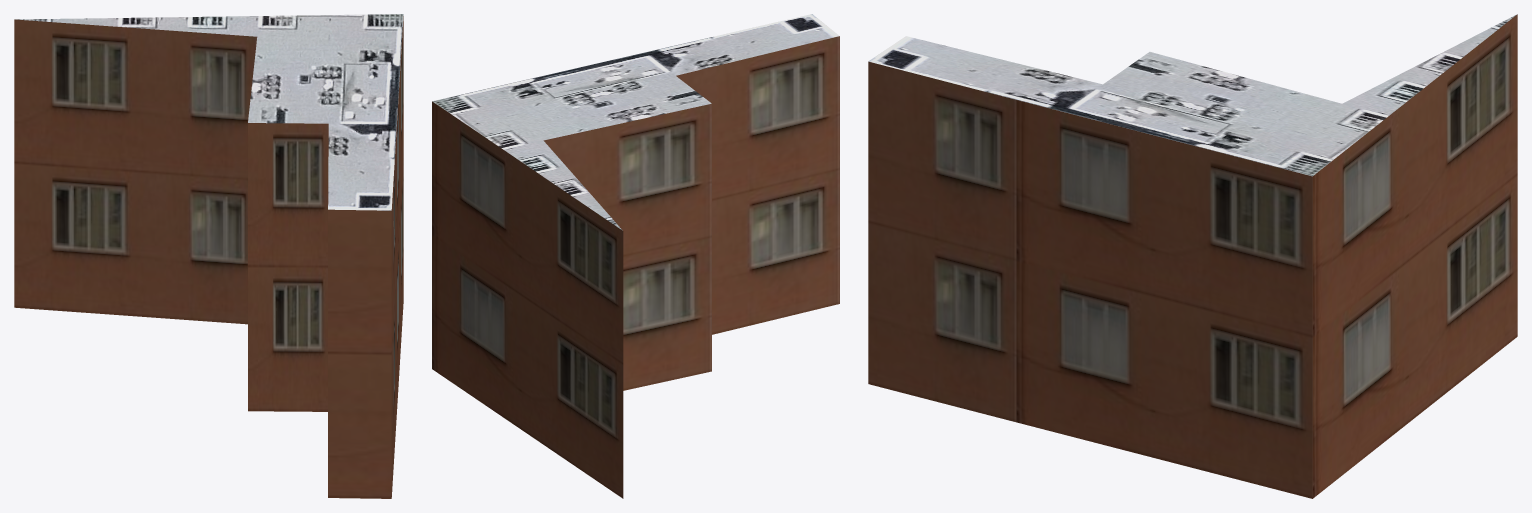
The model's file is ResTex__4489.fbx.
The picture shows the model from 3 angles, left to right: view 1: azimuth 30°, elevation 25°; view 2: azimuth 150°, elevation 25°; view 3: azimuth 270°, elevation 25°; orthographic projection. The views are drawn at different scales.
Parts seen in each view (by area): view 1: CityEngineMaterial_20_m, CityEngineMaterial_8_m; view 2: CityEngineMaterial_20_m, CityEngineMaterial_8_m; view 3: CityEngineMaterial_20_m, CityEngineMaterial_8_m.
Part boxes in pixels (bbox=[...]): CityEngineMaterial_20_m: bbox=[14, 16, 403, 498]; CityEngineMaterial_8_m: bbox=[15, 14, 403, 210]; CityEngineMaterial_20_m: bbox=[432, 36, 839, 498]; CityEngineMaterial_8_m: bbox=[432, 14, 839, 230]; CityEngineMaterial_20_m: bbox=[868, 14, 1517, 498]; CityEngineMaterial_8_m: bbox=[868, 14, 1517, 176].
Bounding box in the file's own units: 6.48 × 6 × 10.95.
2 materials, 2 textured.
